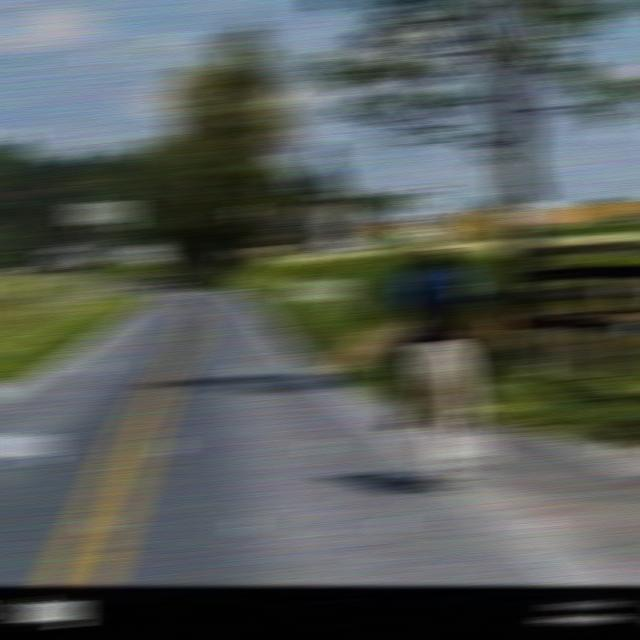speedLimit40: (393, 188, 452, 244)
